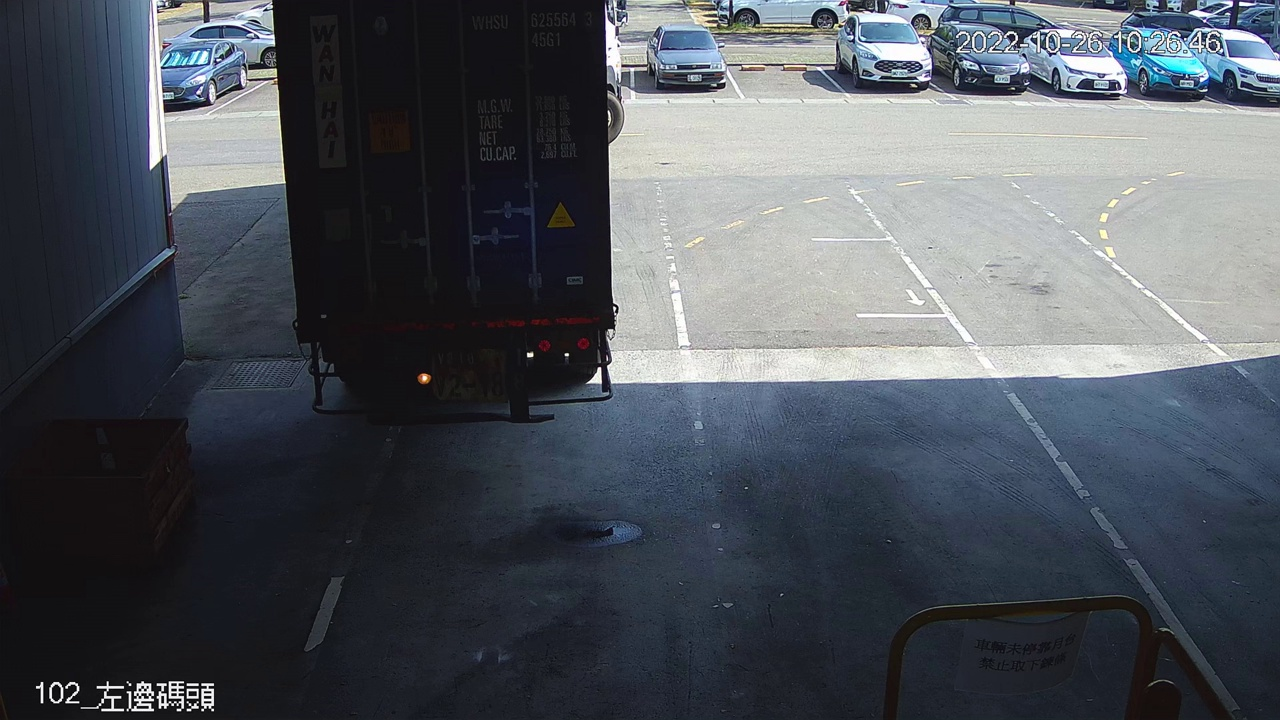container: (465, 4, 598, 53)
